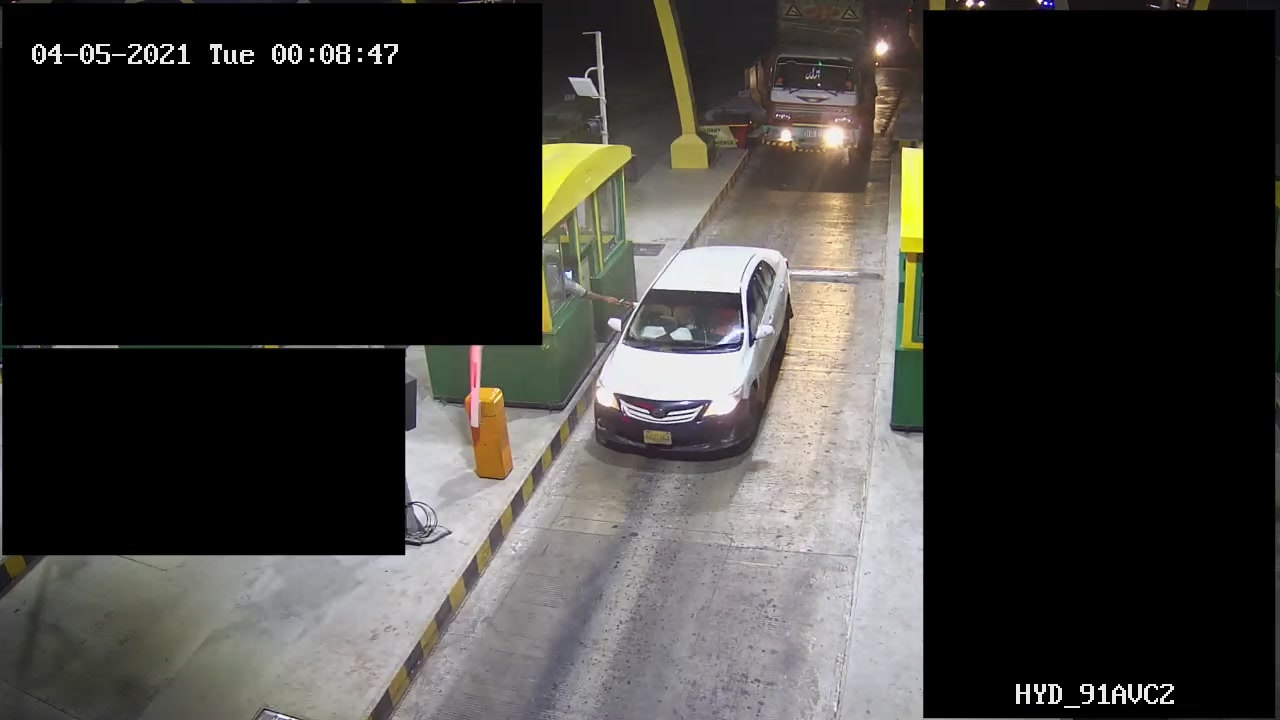F1: (582, 242, 798, 459)
